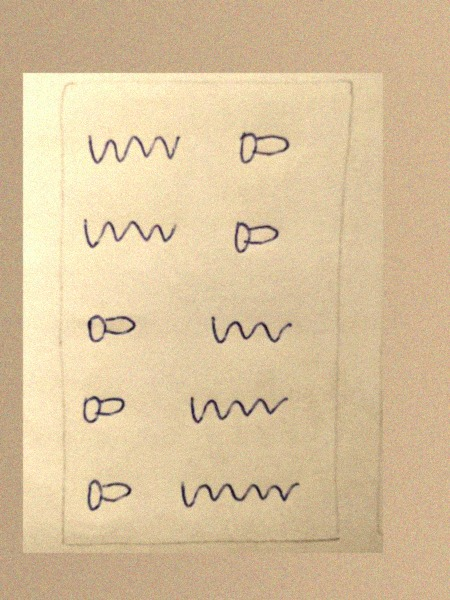switch: (231, 128, 300, 172), (79, 471, 142, 518), (79, 305, 142, 349), (229, 216, 284, 265), (77, 389, 134, 433)
text: (174, 474, 308, 521), (182, 389, 291, 434), (205, 307, 299, 353), (85, 129, 182, 172), (80, 216, 181, 256)
